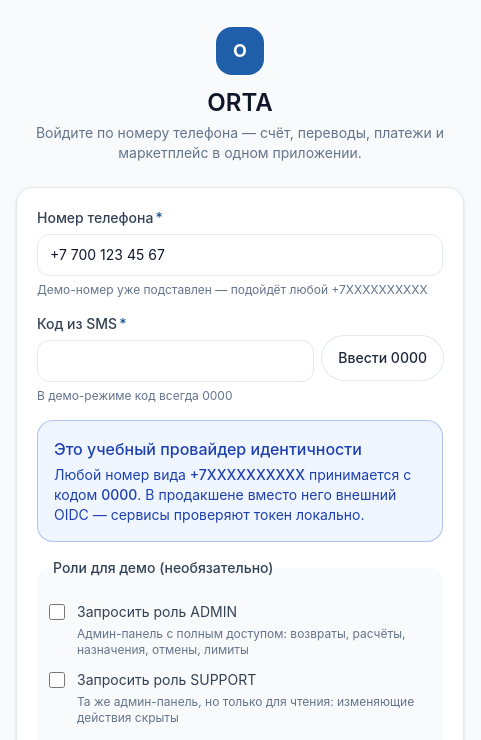
login flow (development identity provider) › shows the RFC 7807 failure and keeps the user on the form for a wrong code
Click the button "Ввести 0000" at (383, 358), box x1=322 y1=336 x2=443 y2=380
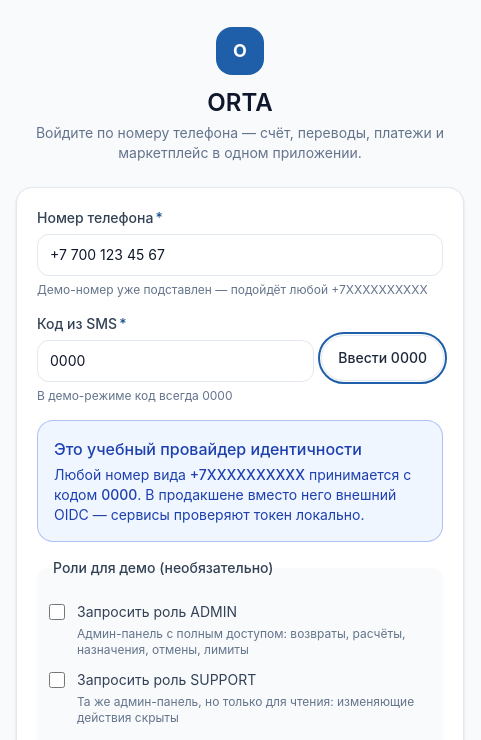
Type "1234" into the field labelled "Код из SMS*" at (176, 361), box x1=37 y1=340 x2=314 y2=382
(page scrolled)
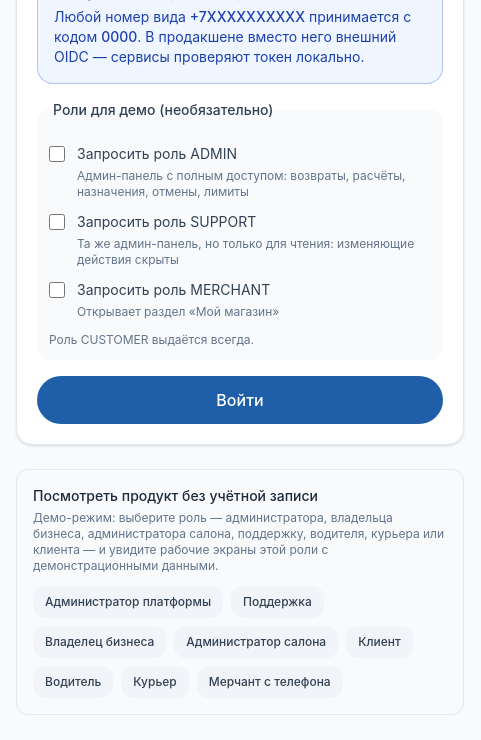
Click the button "Войти" at (240, 400), box x1=37 y1=376 x2=443 y2=424
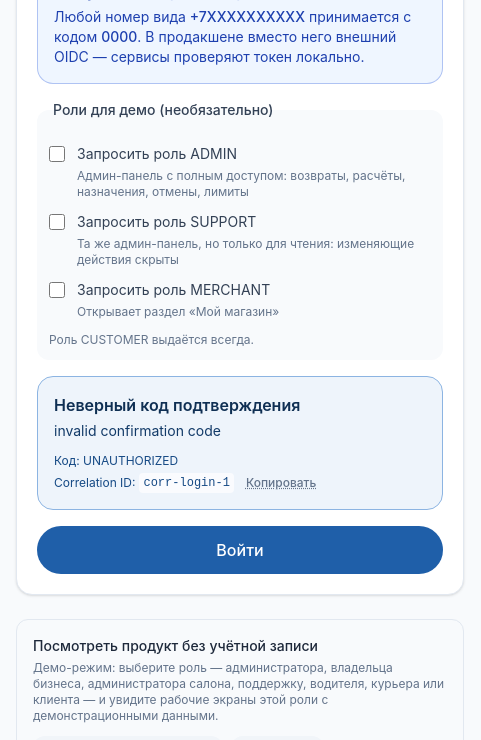
Check: the message that starts with "Неверный код подтверждения" is shown, box x1=54 y1=395 x2=300 y2=415
Check: the message that starts with "Неверный код подтверждения" shows "Код: UNAUTHORIZED", box x1=37 y1=376 x2=443 y2=510
Check: the message that starts with "Неверный код подтверждения" shows "corr-login-1", box x1=144 y1=476 x2=230 y2=490
